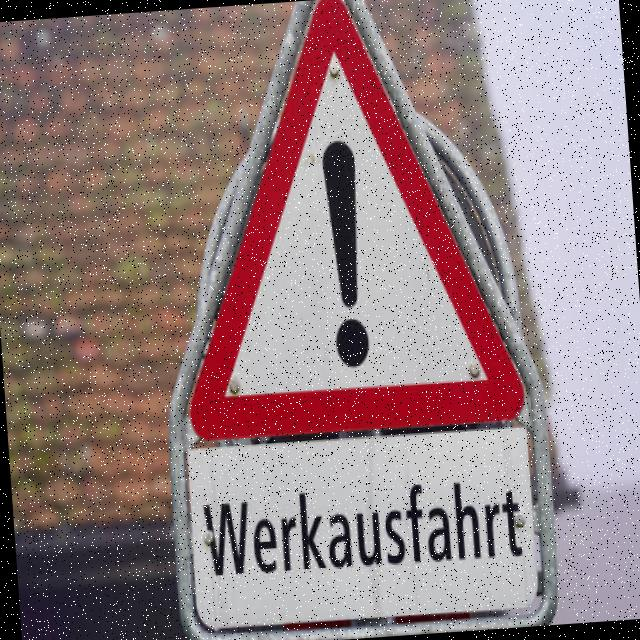warning: (150, 0, 535, 461)
